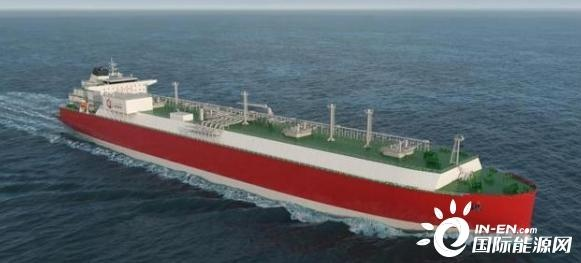Cargoship: (55, 57, 539, 239)
